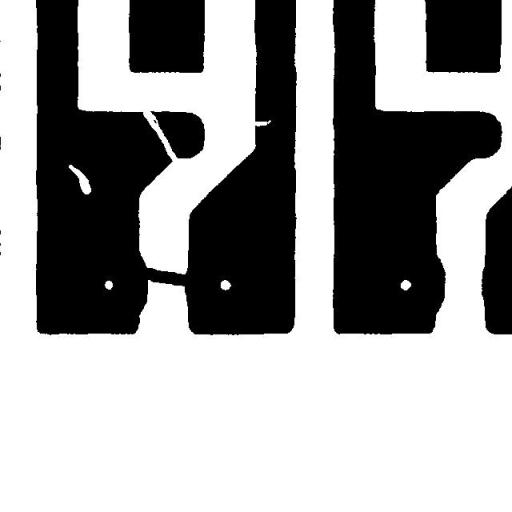mousebite: (246, 112, 278, 134)
open: (135, 102, 186, 170)
pin-hole: (61, 156, 98, 202)
short: (132, 260, 198, 294)
